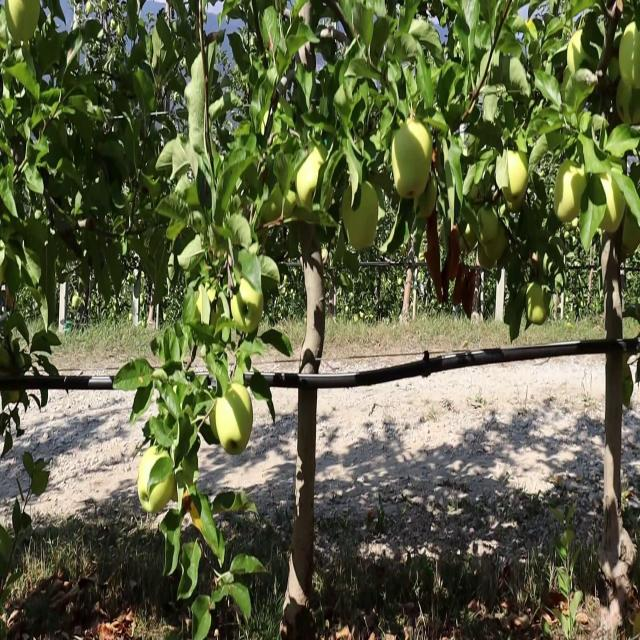apple: (392, 120, 433, 201), (216, 383, 254, 457), (344, 184, 380, 254), (392, 149, 431, 201), (556, 163, 588, 226), (232, 277, 264, 334), (600, 177, 626, 238), (296, 149, 322, 208), (620, 21, 640, 91), (8, 1, 41, 43), (501, 149, 529, 197), (500, 170, 528, 215), (480, 227, 508, 270), (616, 78, 640, 126), (480, 234, 504, 270), (528, 284, 548, 327), (416, 184, 438, 222), (240, 277, 264, 311), (504, 184, 527, 215), (624, 213, 640, 256), (480, 206, 499, 242), (464, 220, 479, 252), (192, 499, 205, 533)
